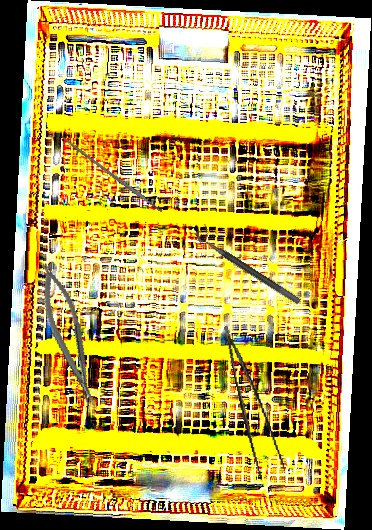Fixation Ring: (193, 222, 307, 306)
Needle Holder: (33, 259, 103, 415)
Scalpel Handle: (60, 134, 163, 215)
Tissue Forceps: (223, 320, 287, 483)
